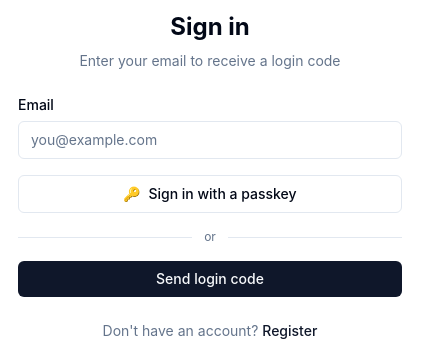
LoginPage › transitions to PIN step after successful email submission
Type "test@example.com" into the field with id "email".
click(210, 140); type("test@example.com")  # box [18,121,402,159]
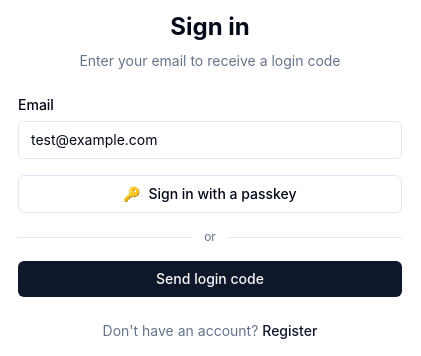
Submit the form, box [18,95,402,297]
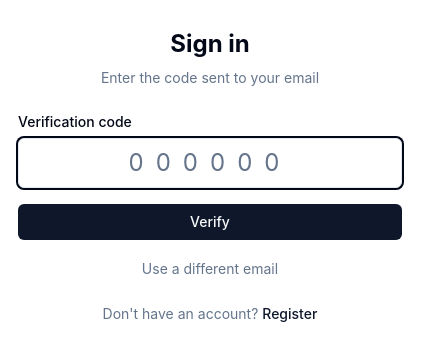
Result: the field labelled "Verification code" is shown at [18,138,402,188]
Result: the submit button reads "Verify" at [18,204,402,240]
